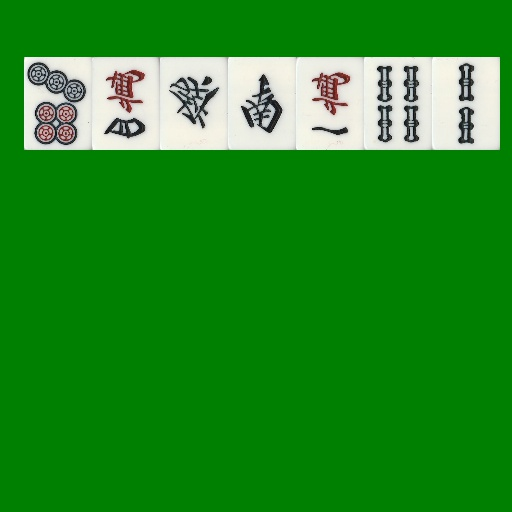1m: (296, 57, 364, 150)
2s: (432, 57, 500, 150)
4m: (92, 57, 160, 150)
4s: (364, 57, 432, 150)
7p: (24, 57, 92, 150)
hatsu: (160, 57, 228, 150)
south: (228, 57, 296, 150)
